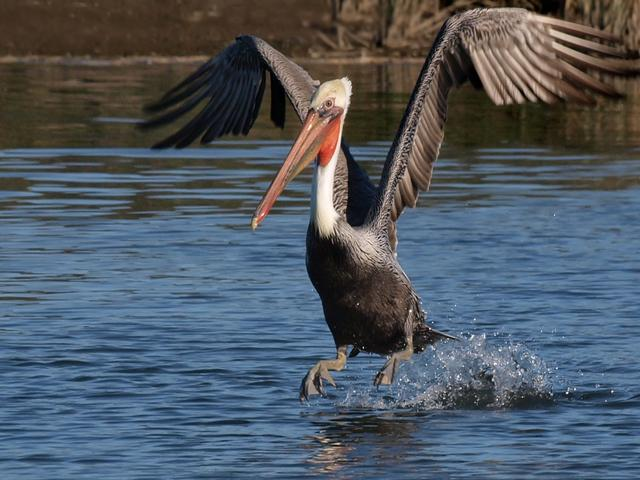bird: (114, 24, 573, 405)
